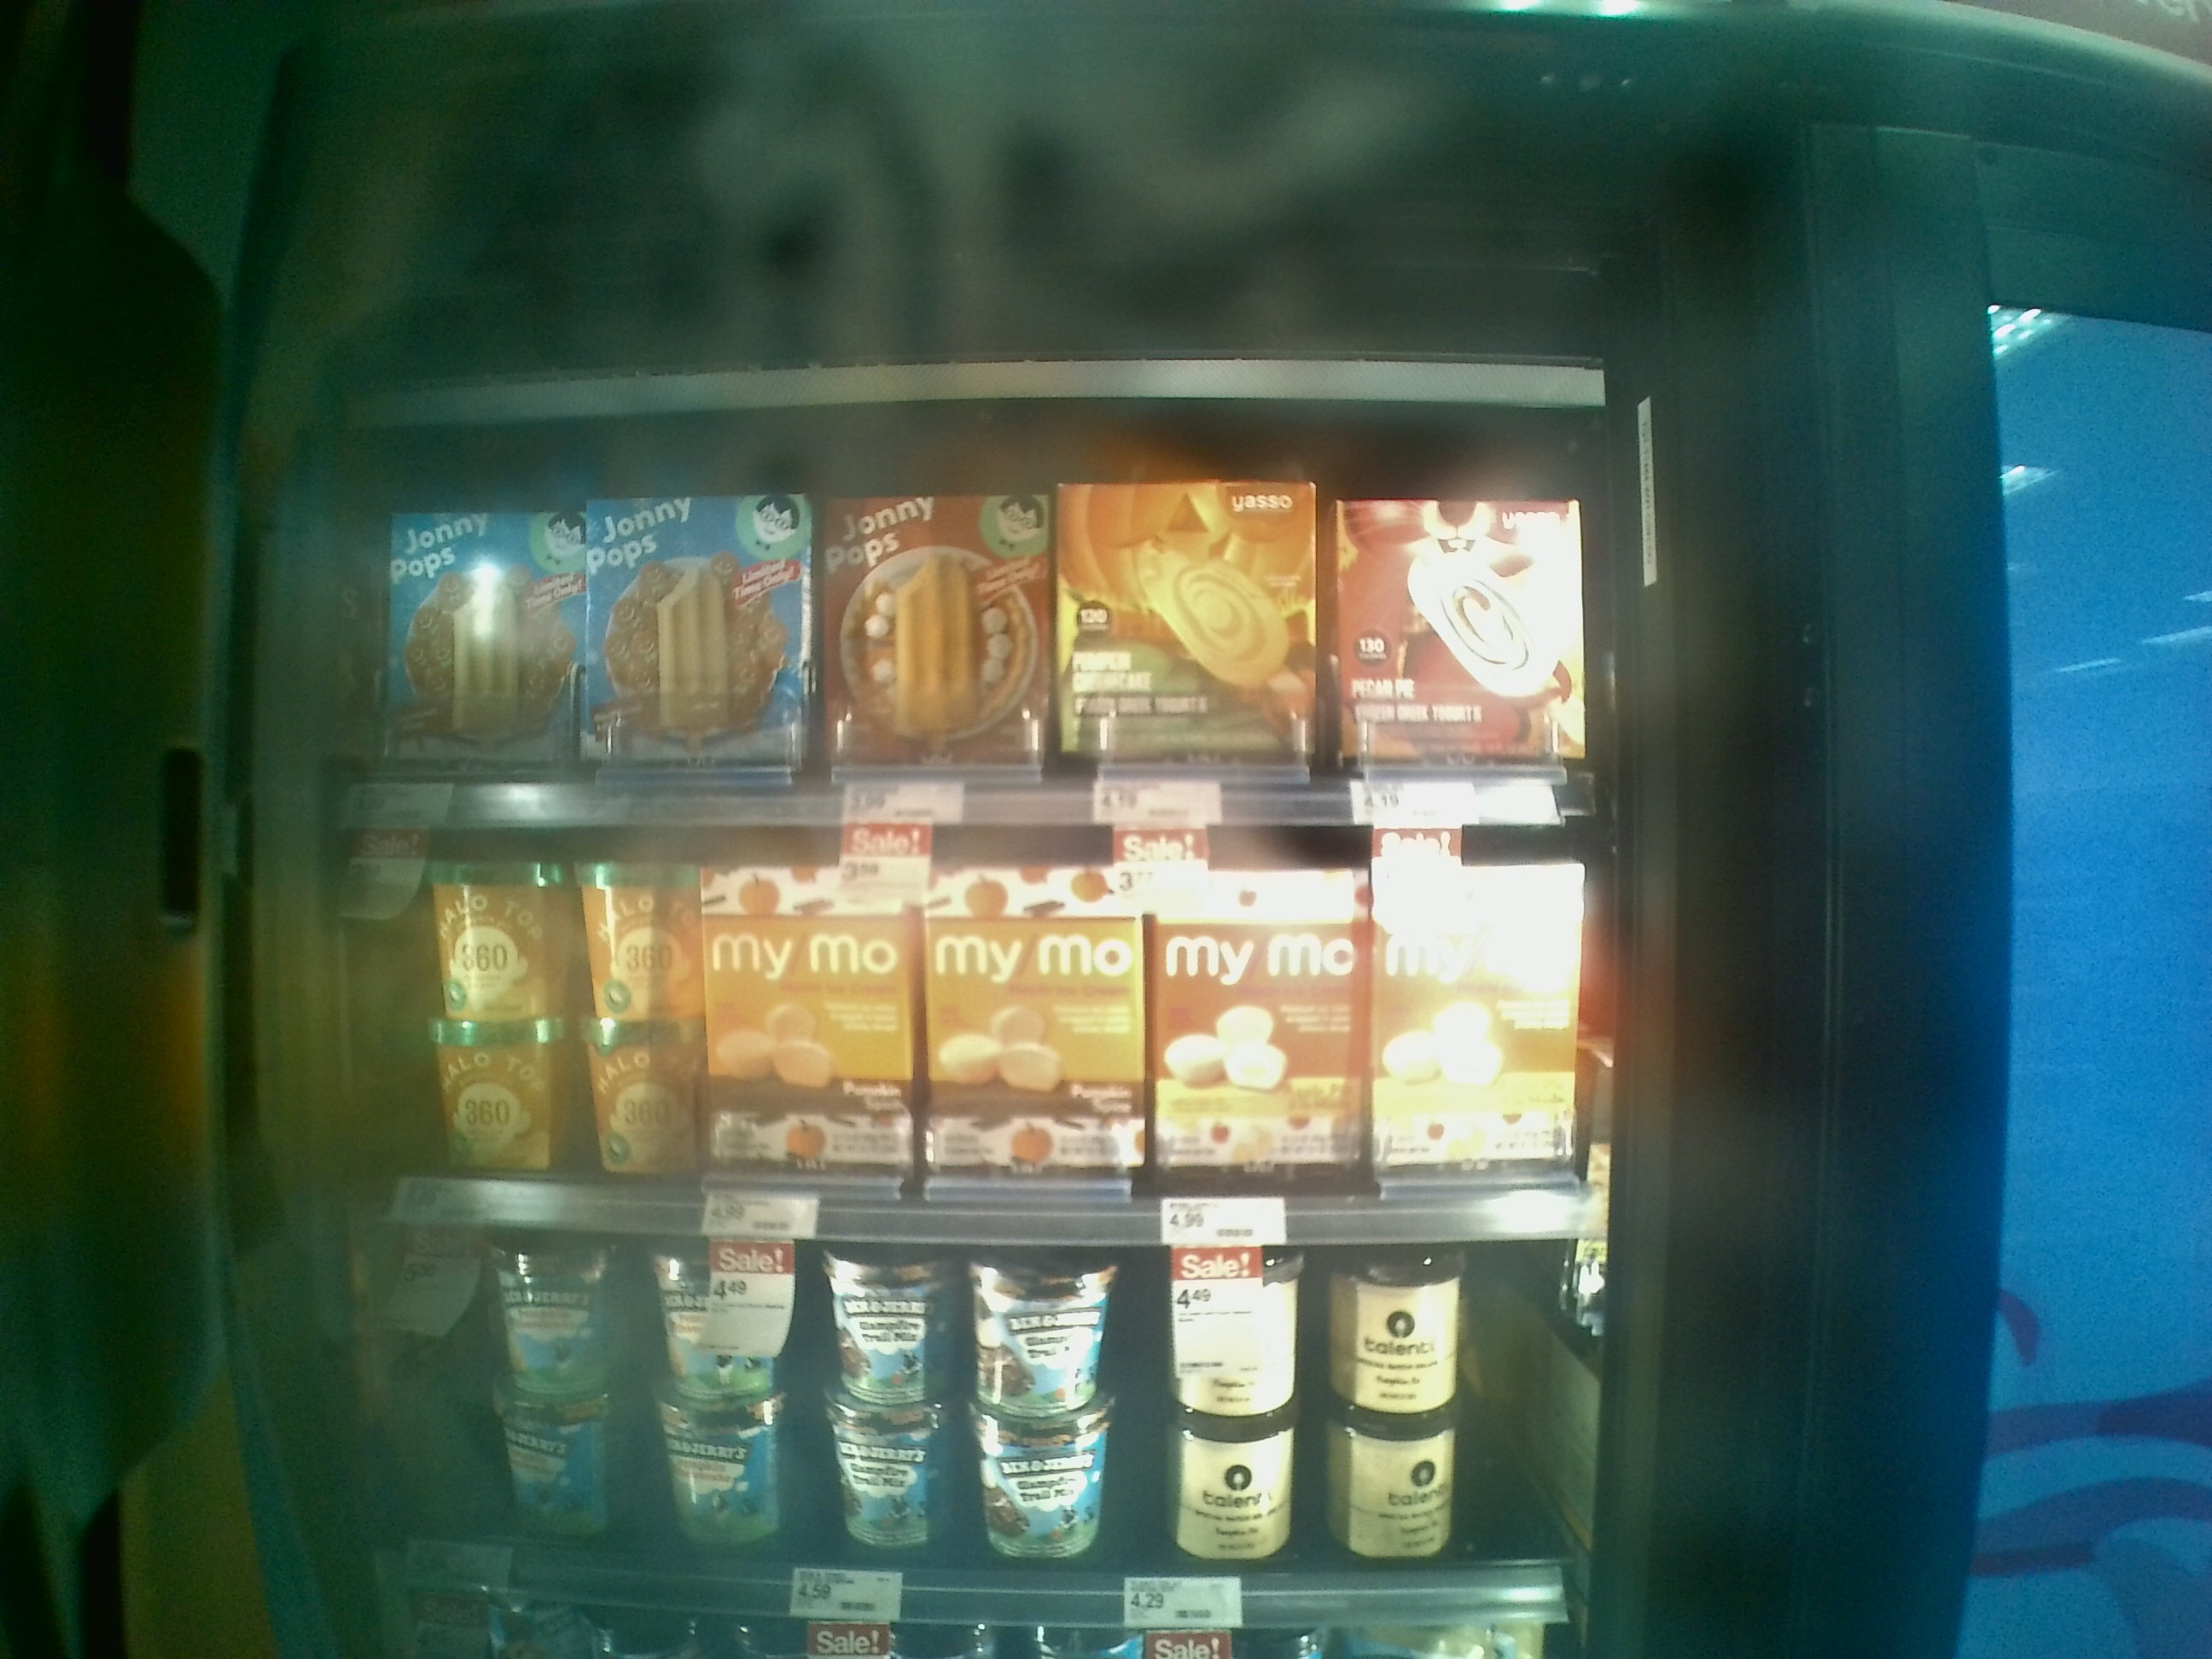shelf: (261, 1187, 1594, 1629), (298, 802, 1602, 1243), (294, 406, 1609, 828)
